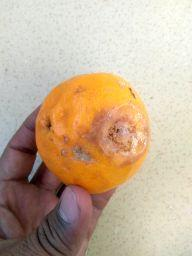Unripe: (36, 74, 151, 191)
